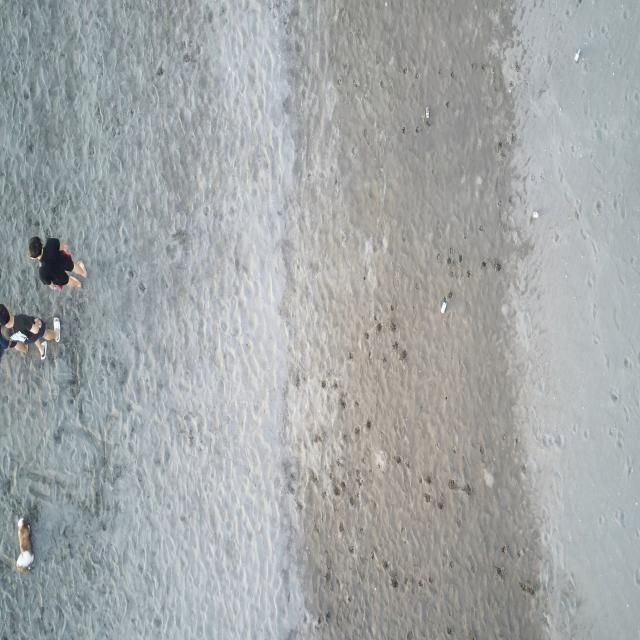tin-and-aluminum-cans: (440, 298, 447, 315), (574, 46, 581, 62), (424, 105, 430, 121), (532, 210, 540, 218)
